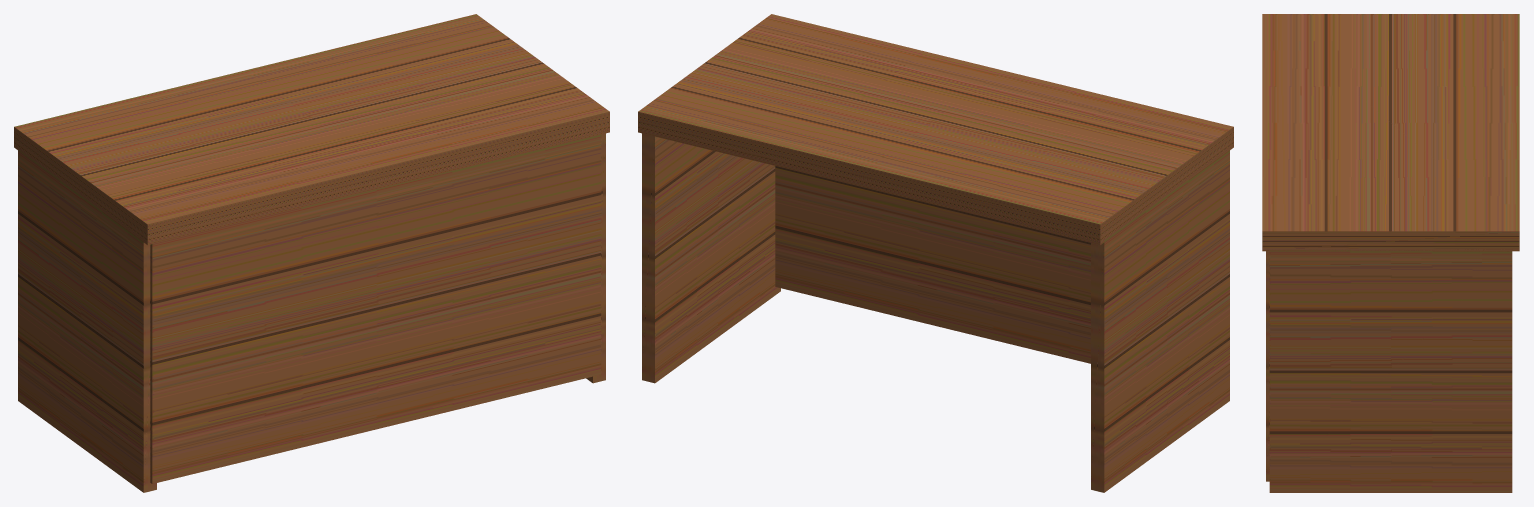
Rendered from teacher_desk.glb.
The picture shows the model from 3 angles, left to right: view 1: azimuth 30°, elevation 25°; view 2: azimuth 150°, elevation 25°; view 3: azimuth 270°, elevation 25°; orthographic projection. The views are drawn at different scales.
Parts seen in each view (by area): view 1: teacher_desk; view 2: teacher_desk; view 3: teacher_desk.
Boxes of the visible parts, x1,y1,x2,y2 form: teacher_desk: (14, 14, 609, 492); teacher_desk: (638, 14, 1233, 492); teacher_desk: (1262, 14, 1519, 492).
Bounding box in the file's own units: 1.4 × 0.785 × 0.7.
1 material, 1 textured.
